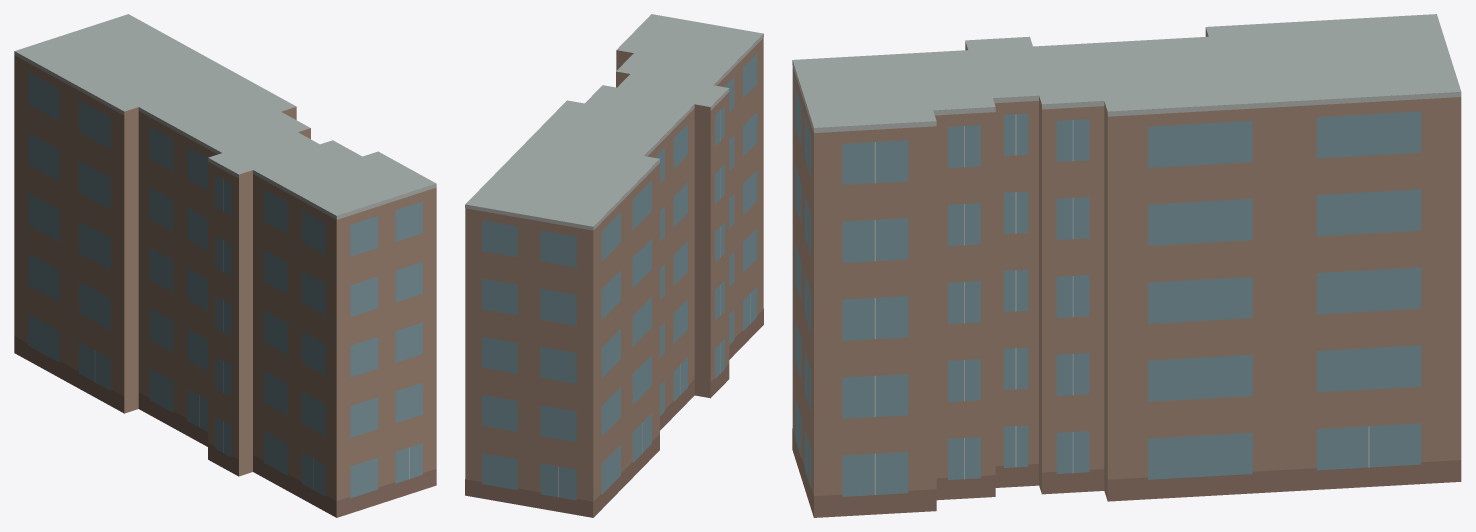
Rendered from survey-upis-32974097.glb.
3 views of the same model, side by side, from view 1: azimuth 30°, elevation 25°; view 2: azimuth 150°, elevation 25°; view 3: azimuth 270°, elevation 25° (orthographic). The views are drawn at different scales.
Parts seen in each view (by area): view 1: survey-upis-32974097.tmp; view 2: survey-upis-32974097.tmp; view 3: survey-upis-32974097.tmp.
Boxes of the visible parts, x1,y1,x2,y2 form: survey-upis-32974097.tmp: [14, 14, 436, 517]; survey-upis-32974097.tmp: [465, 14, 763, 517]; survey-upis-32974097.tmp: [792, 14, 1461, 517].
Bounding box in the file's own units: 11.61 × 18.5 × 28.77.
